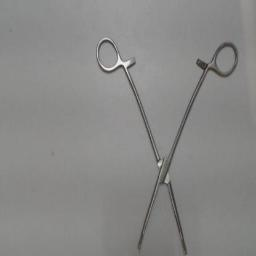Lahey Forceps: (92, 34, 244, 256)
